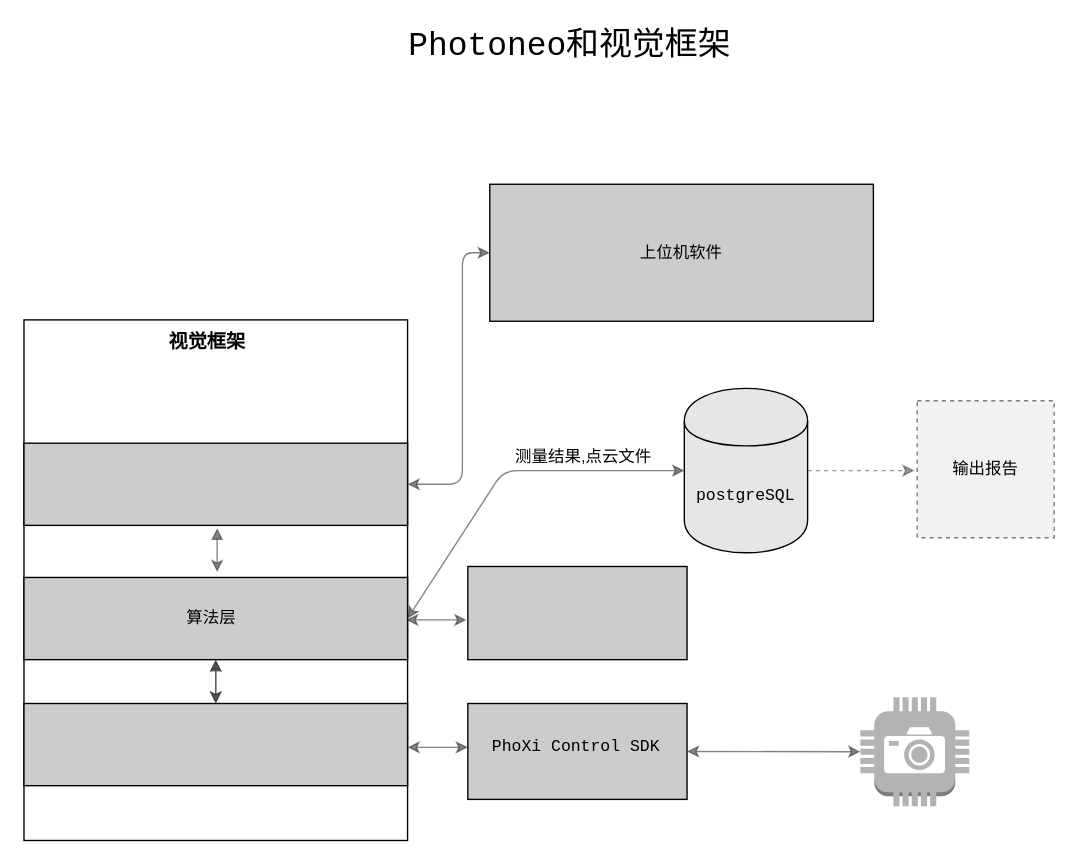
Image size: 1078x864. Some labels were removed from this diagram. Here are the shapes that lost their labels. From the top down, the box of each, then its label:
(23, 442, 408, 525): Http服务层
(466, 565, 687, 660): 点云算法
(23, 702, 408, 786): 设备层
